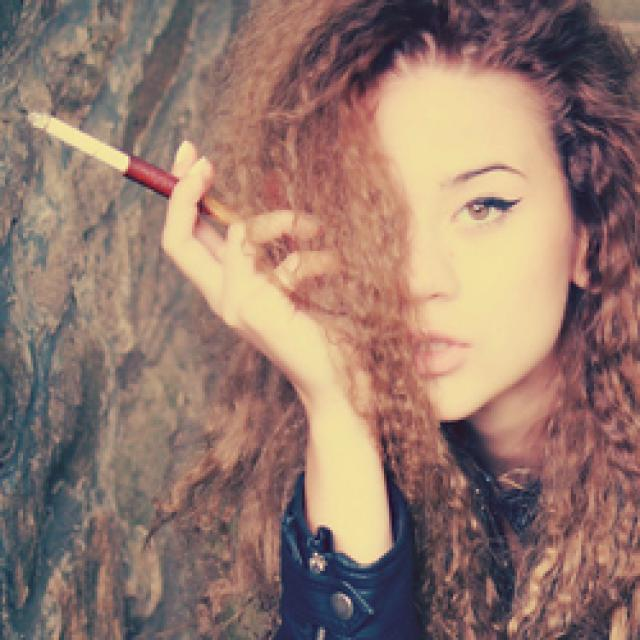Smooking: (16, 97, 232, 230)
